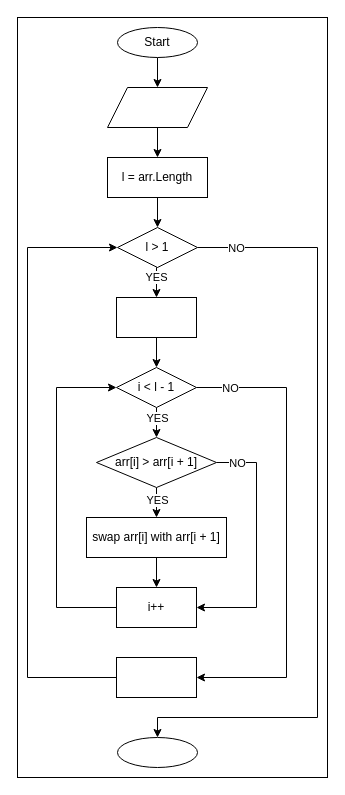
Some shapes in this 345 by 795 pixel diagram are drawn without their labels. Each missing label, with the centre of its shape:
End: the point at 157,752
i = 0: the point at 156,317
input arr: the point at 157,107
l--: the point at 156,677
